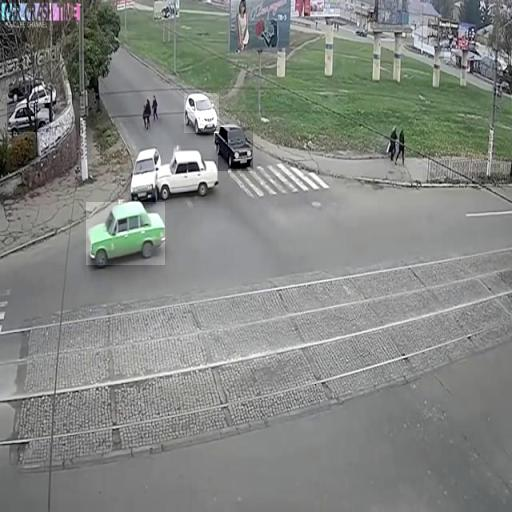小汽车: (86, 202, 165, 265), (215, 128, 253, 172), (184, 93, 219, 133), (8, 103, 52, 132)
小汽车撞小汽车: (129, 145, 218, 198)
